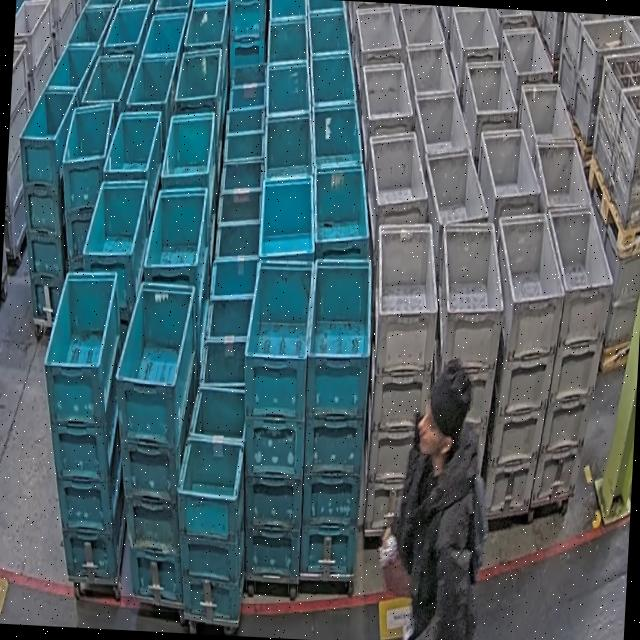4G: (480, 210, 570, 525), (528, 202, 618, 517), (362, 218, 443, 538), (426, 219, 509, 488)
B4: (31, 267, 139, 582), (104, 279, 200, 609), (230, 256, 316, 586), (294, 257, 376, 581), (8, 84, 82, 332), (56, 99, 115, 272)
B8: (170, 385, 256, 624)
